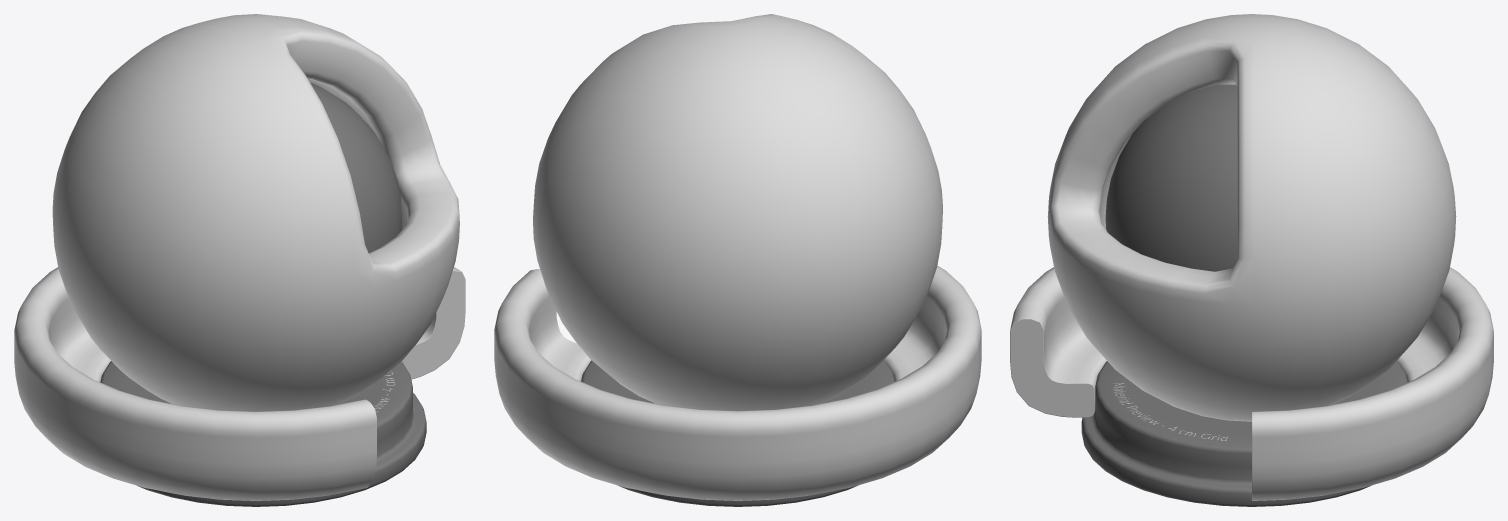
The model's file is shaderball_simple.glb.
The picture shows the model from 3 angles, left to right: view 1: azimuth 30°, elevation 25°; view 2: azimuth 150°, elevation 25°; view 3: azimuth 270°, elevation 25°; orthographic projection.
Parts seen in each view (by area): view 1: material_surface, base, core; view 2: material_surface, base; view 3: material_surface, core, base.
Part boxes in pixels (x1,y1,x2,y2): material_surface: [14, 14, 465, 500]; base: [100, 361, 426, 506]; core: [310, 82, 402, 252]; material_surface: [494, 14, 981, 500]; base: [581, 360, 894, 506]; material_surface: [1010, 14, 1493, 500]; core: [1105, 84, 1237, 271]; base: [1081, 361, 1407, 506].
Bounding box in the file's own units: 0.0892 × 0.0821 × 0.0892.
Materials: 2 (2 with a texture image).
